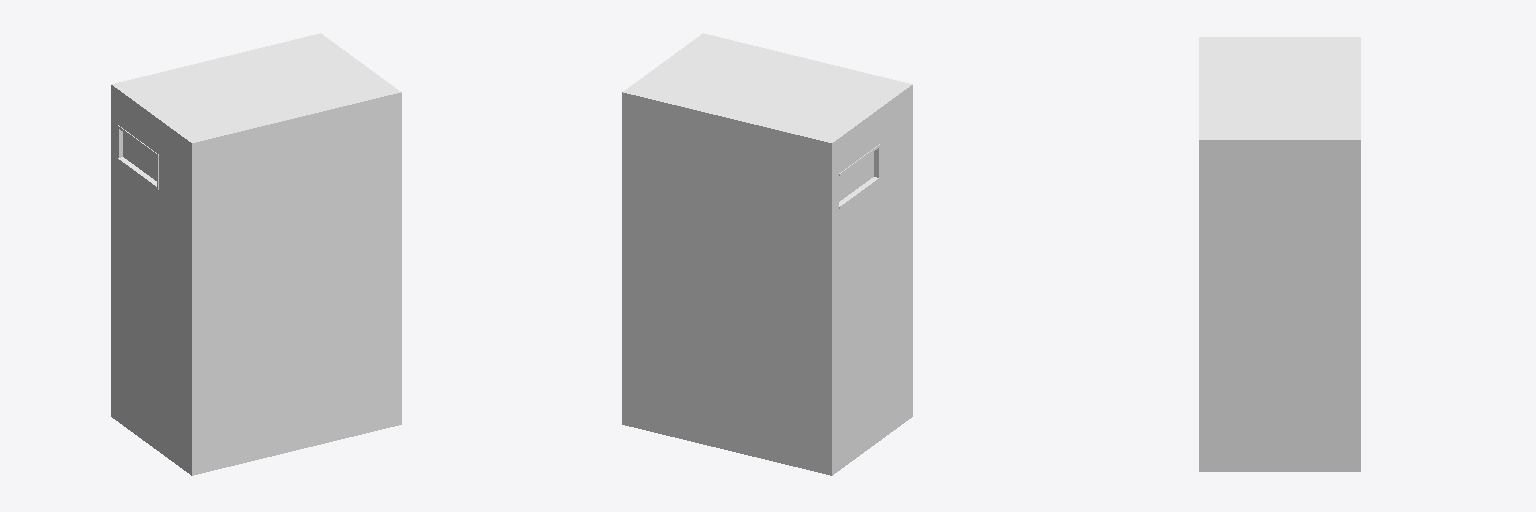
Rendered from Shop.obj.
3 views of the same model, side by side, from view 1: azimuth 30°, elevation 25°; view 2: azimuth 150°, elevation 25°; view 3: azimuth 270°, elevation 25° (orthographic).
Visible parts, largest first — view 1: Floor_Generic_Floor___200__323099_, Basic_Wall_Generic___200mm__368621_, Basic_Wall_Generic___200mm__322698_, Floor_Generic_Floor___400mm__322617_, M_Single_Flush_0915_x_2134mm__371596_; view 2: Floor_Generic_Floor___400mm__322617_, Basic_Wall_Generic___200mm__368621_, Basic_Wall_Generic___200mm__322698_, Floor_Generic_Floor___200__323099_, M_Single_Flush_0915_x_2134mm__371596_; view 3: Basic_Wall_Generic___200mm__368647_, Basic_Wall_Generic___200mm__322698_, Floor_Generic_Floor___400mm__322617_, Floor_Generic_Floor___200__323099_.
Part boxes in pixels (x1,y1,x2,y2): Floor_Generic_Floor___200__323099_: (188, 90, 401, 475); Basic_Wall_Generic___200mm__368621_: (119, 97, 187, 472); Basic_Wall_Generic___200mm__322698_: (119, 39, 397, 146); Floor_Generic_Floor___400mm__322617_: (111, 33, 327, 421); M_Single_Flush_0915_x_2134mm__371596_: (118, 125, 158, 189); Floor_Generic_Floor___400mm__322617_: (622, 87, 838, 475); Basic_Wall_Generic___200mm__368621_: (839, 94, 908, 470); Basic_Wall_Generic___200mm__322698_: (630, 36, 908, 144); Floor_Generic_Floor___200__323099_: (700, 33, 912, 418); M_Single_Flush_0915_x_2134mm__371596_: (839, 144, 880, 208); Basic_Wall_Generic___200mm__368647_: (1207, 146, 1345, 471); Basic_Wall_Generic___200mm__322698_: (1207, 37, 1345, 145); Floor_Generic_Floor___400mm__322617_: (1346, 37, 1360, 471); Floor_Generic_Floor___200__323099_: (1199, 37, 1206, 471).
Size of the model in its own units: 662 by 1008 by 440.